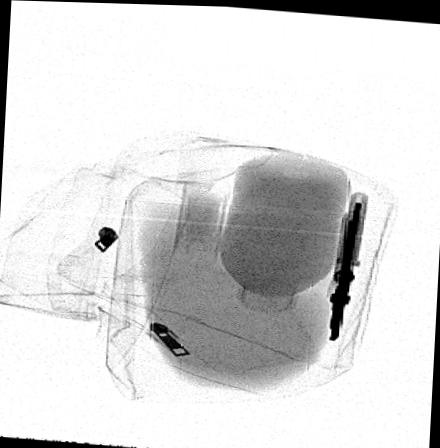Pliers: (325, 195, 363, 340)
